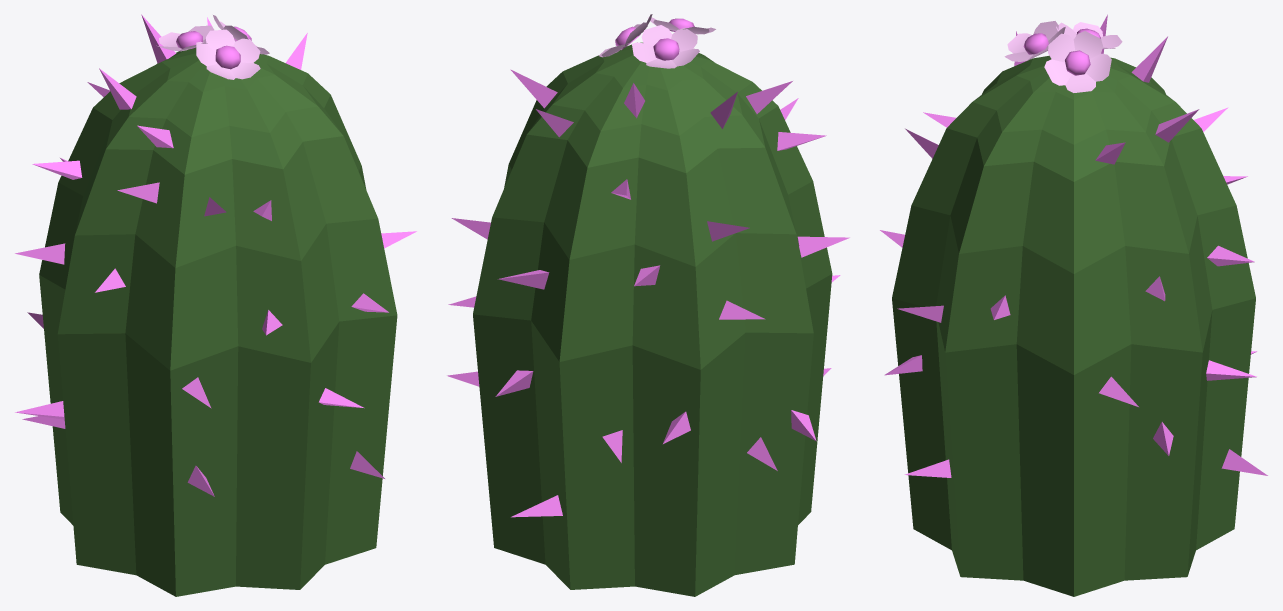
File: Cactus_23_B.fbx
3 renders of one model, left to right at view 1: azimuth 30°, elevation 25°; view 2: azimuth 150°, elevation 25°; view 3: azimuth 270°, elevation 25°, orthographic. The views are drawn at different scales.
Visible parts, largest first — view 1: Cactus_23_B; view 2: Cactus_23_B; view 3: Cactus_23_B.
Boxes of the visible parts, x1,y1,x2,y2 form: Cactus_23_B: [15, 14, 416, 596]; Cactus_23_B: [447, 14, 849, 596]; Cactus_23_B: [880, 14, 1267, 596].
Size of the model in its own units: 115 by 158 by 112.
